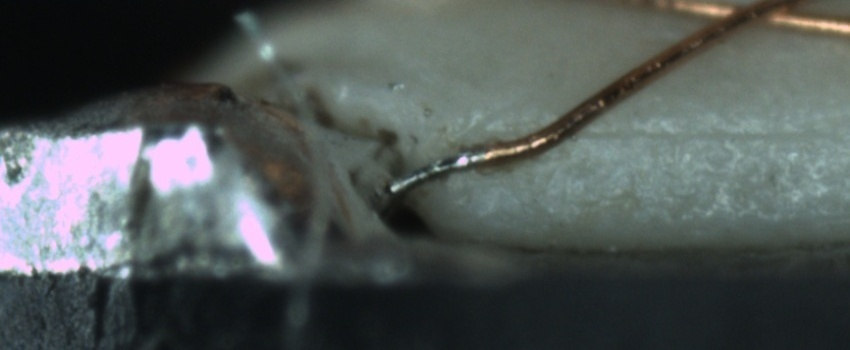CL: (697, 1, 829, 35)
DL: (568, 102, 848, 163)
TS: (388, 149, 489, 197)
TTCW: (386, 144, 493, 194)
